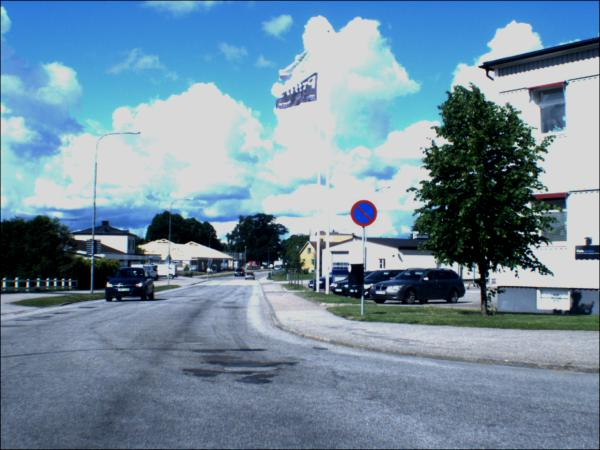NO_PARKING: (352, 200, 380, 230)
PRIORITY_ROAD: (271, 266, 275, 270)
